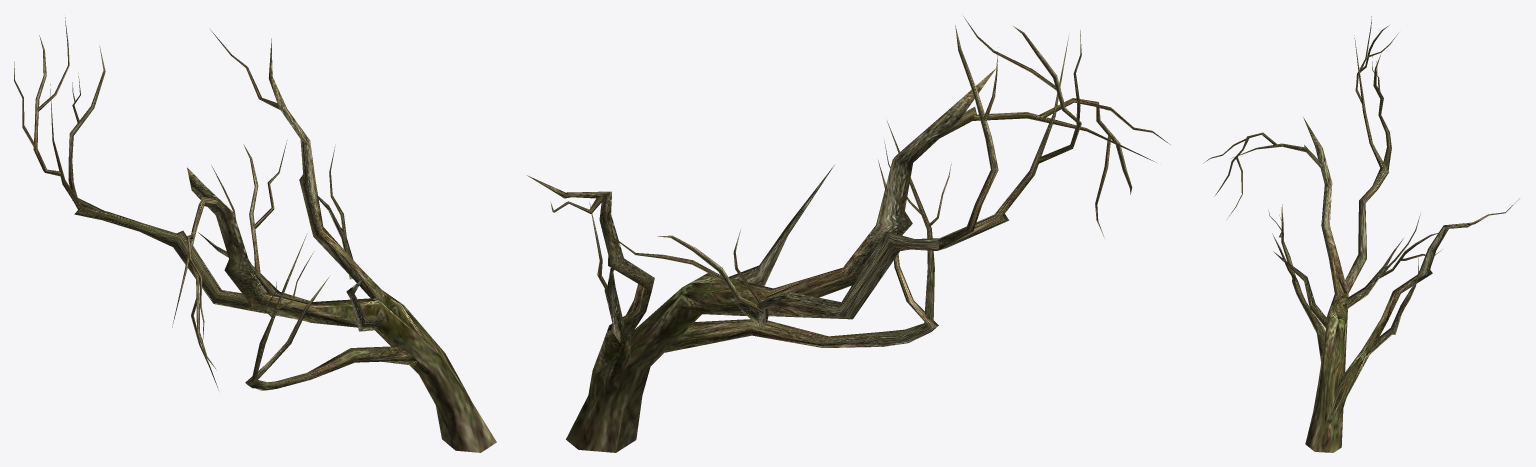
Rendered from S_Tree_Green017.FBX.
3 renders of one model, left to right at view 1: azimuth 30°, elevation 25°; view 2: azimuth 150°, elevation 25°; view 3: azimuth 270°, elevation 25°, orthographic. The views are drawn at different scales.
Parts seen in each view (by area): view 1: S_Tree_Green017; view 2: S_Tree_Green017; view 3: S_Tree_Green017.
Boxes of the visible parts, bbox=[...] form: S_Tree_Green017: bbox=[14, 17, 496, 452]; S_Tree_Green017: bbox=[527, 16, 1170, 452]; S_Tree_Green017: bbox=[1203, 16, 1519, 452].
Size of the model in its own units: 520 by 501 by 526.
